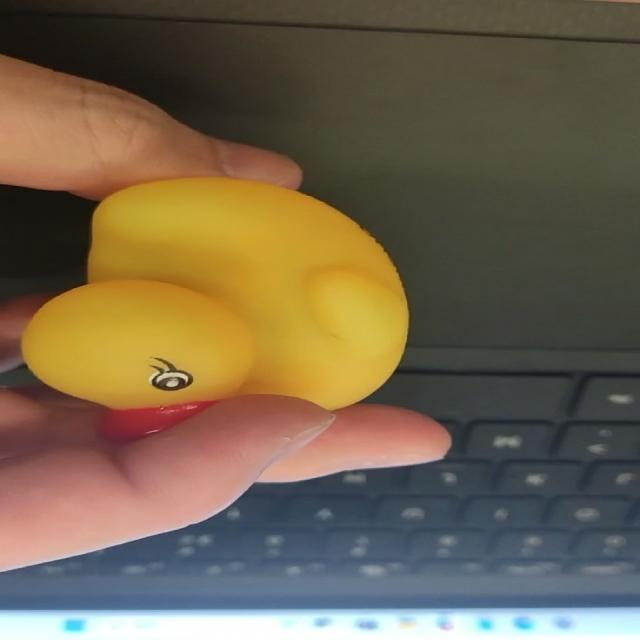rubber-duck: (21, 176, 406, 434)
